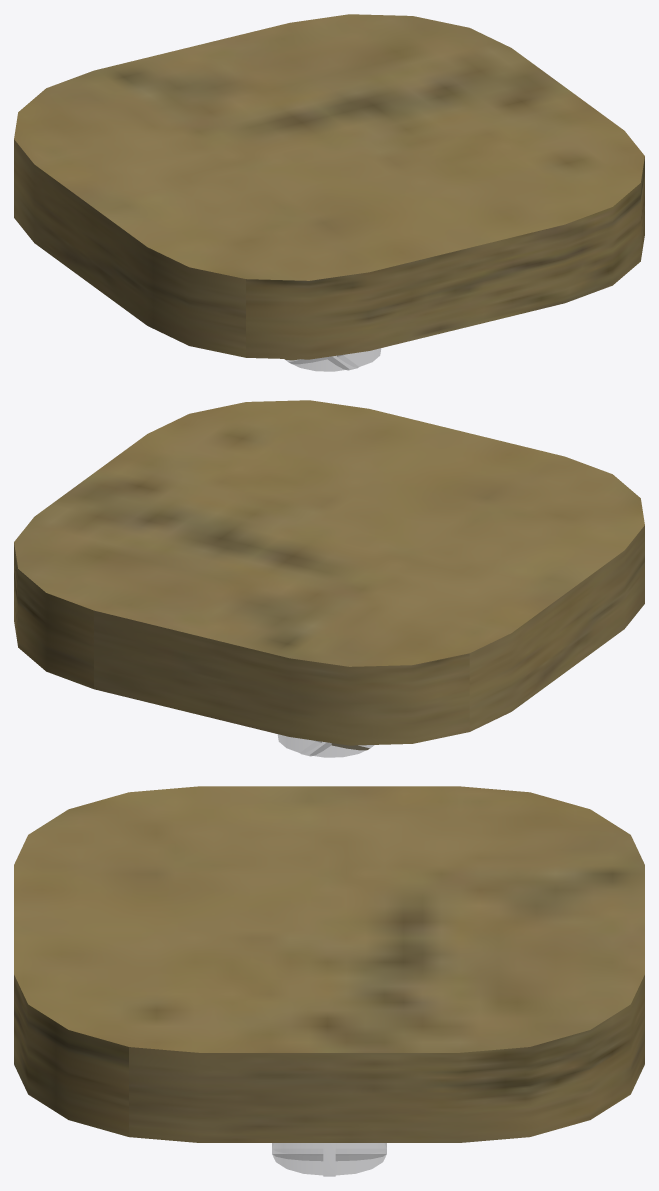
Rendered from Lampu.fbx.
The picture shows the model from 3 angles, top to bottom: view 1: azimuth 30°, elevation 25°; view 2: azimuth 150°, elevation 25°; view 3: azimuth 270°, elevation 25°; orthographic projection. The views are drawn at different scales.
Parts seen in each view (by area): view 1: Lampu; view 2: Lampu; view 3: Lampu.
Part boxes in pixels (bbox=[...]): Lampu: bbox=[14, 14, 644, 371]; Lampu: bbox=[14, 400, 644, 757]; Lampu: bbox=[14, 786, 644, 1176].
Bounding box in the file's own units: 63.93 × 26.71 × 63.93.
Materials: 2 (1 with a texture image).
